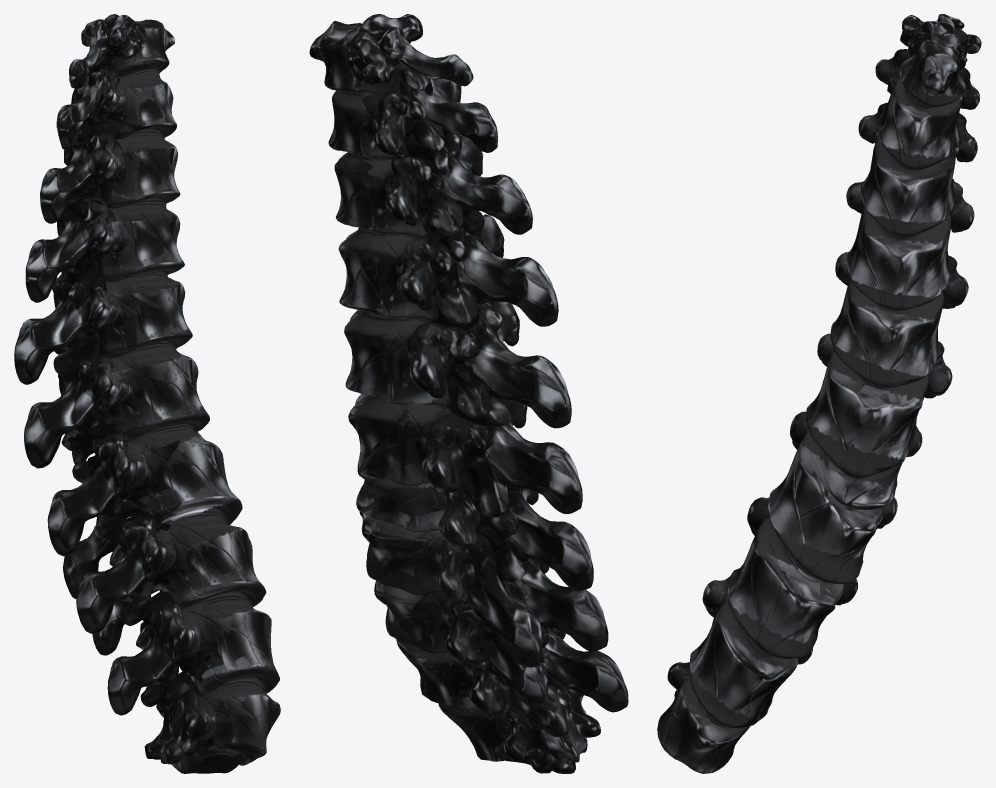
Rendered from spine-desktop.glb.
3 renders of one model, left to right at view 1: azimuth 30°, elevation 25°; view 2: azimuth 150°, elevation 25°; view 3: azimuth 270°, elevation 25°, orthographic. The views are drawn at different scales.
Parts seen in each view (by area): view 1: tripo_node_fd81abb5; view 2: tripo_node_fd81abb5; view 3: tripo_node_fd81abb5.
Boxes of the visible parts, <box> form: tripo_node_fd81abb5: <box>14,14,280,773</box>; tripo_node_fd81abb5: <box>309,14,628,773</box>; tripo_node_fd81abb5: <box>657,14,981,773</box>.
Bounding box in the file's own units: 0.3295 × 1.09 × 0.4311.
Materials: 1 (1 with a texture image).
